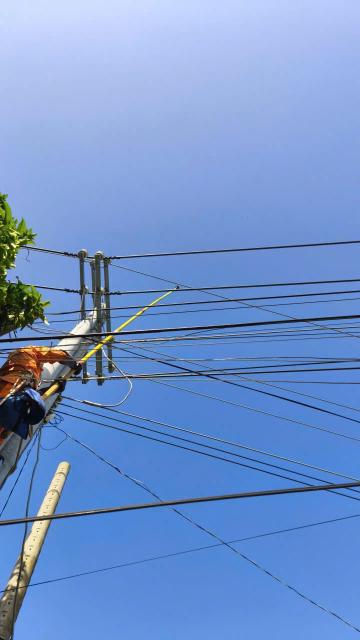gloves: (63, 350, 82, 371)
